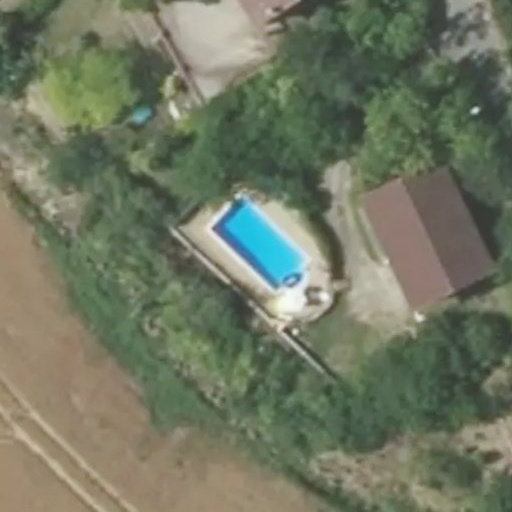pool: (206, 226, 310, 262)
